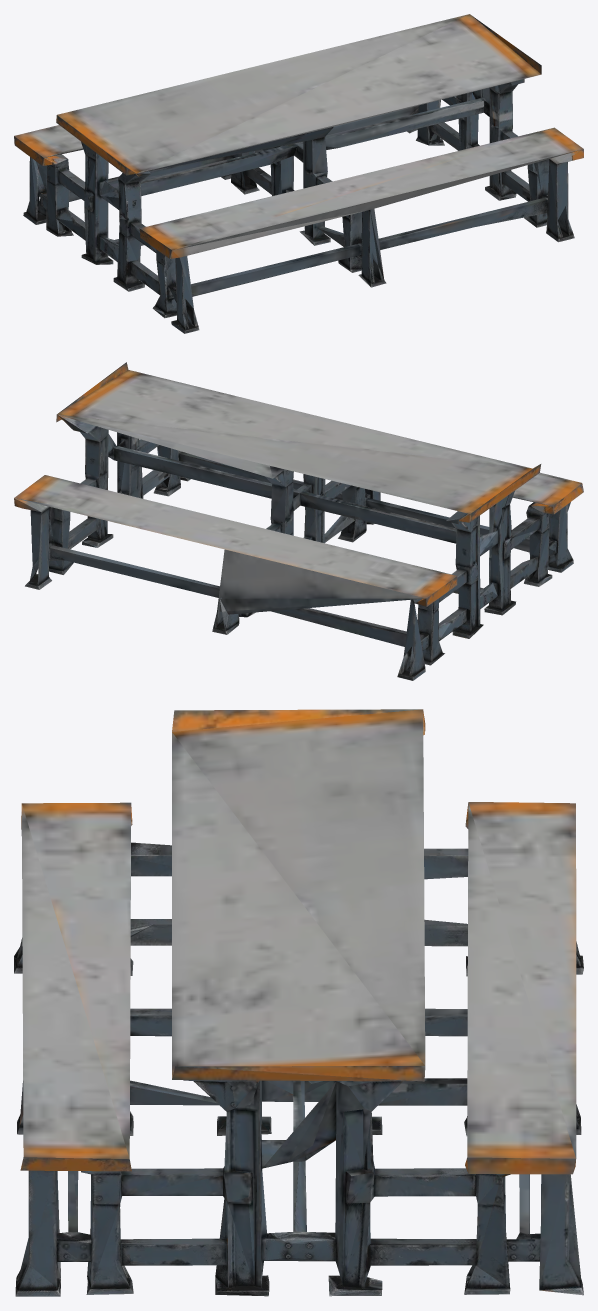
Rendered from table.glb.
3 views of the same model, one above another, from view 1: azimuth 30°, elevation 25°; view 2: azimuth 150°, elevation 25°; view 3: azimuth 270°, elevation 25° (orthographic). The views are drawn at different scales.
Parts seen in each view (by area): view 1: Mesh_0; view 2: Mesh_0; view 3: Mesh_0.
Part boxes in pixels (x1,y1,x2,y2): Mesh_0: (14,14,583,333); Mesh_0: (14,362,583,680); Mesh_0: (14,709,583,1296).
Bounding box in the file's own units: 2.8 × 0.884 × 1.89.
Materials: 1 (1 with a texture image).
